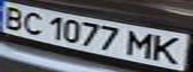0: (60, 17, 81, 45)
1: (42, 14, 66, 40)
7: (96, 23, 124, 53), (78, 20, 103, 50)
B: (0, 3, 30, 30)
C: (18, 8, 48, 36)
K: (148, 34, 187, 65)
M: (127, 29, 157, 60)
